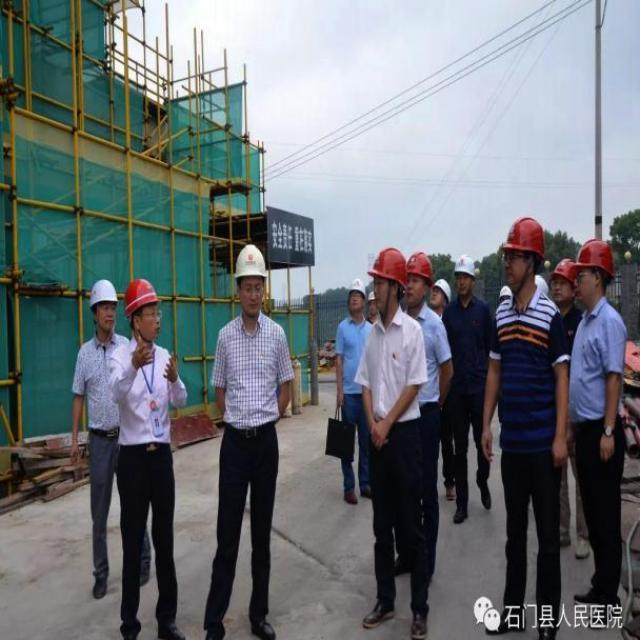helmet: (492, 207, 548, 304), (357, 222, 408, 326), (121, 274, 164, 344), (228, 244, 270, 310), (579, 234, 612, 317), (400, 238, 434, 317), (86, 268, 122, 341), (545, 250, 584, 317), (338, 258, 367, 318), (450, 253, 475, 305)
